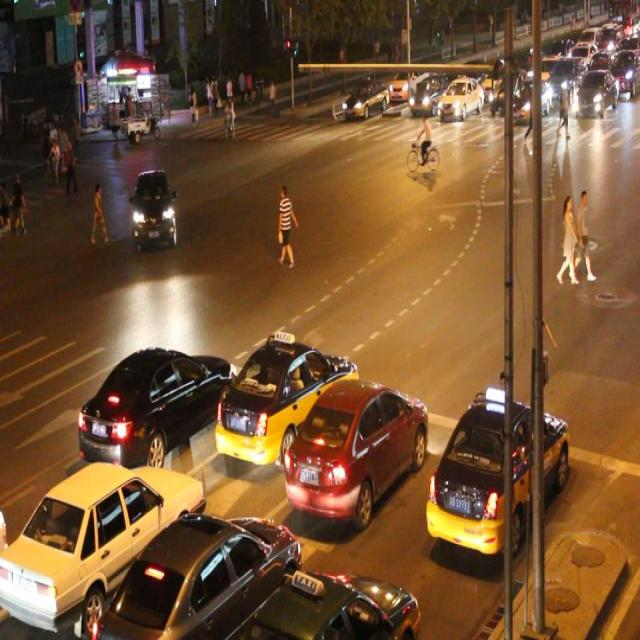car: (1, 460, 202, 629), (91, 509, 303, 640), (423, 394, 568, 560), (281, 376, 427, 524), (77, 345, 236, 470), (214, 335, 359, 466), (248, 563, 419, 640), (131, 169, 179, 249)
